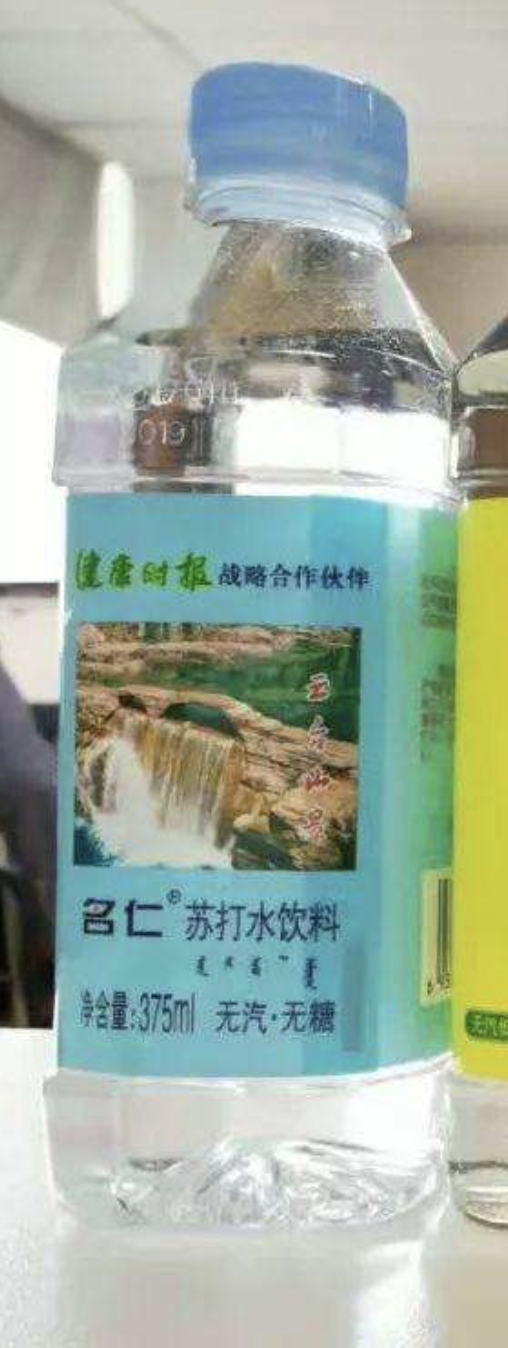苏打水: (45, 66, 463, 1230)
